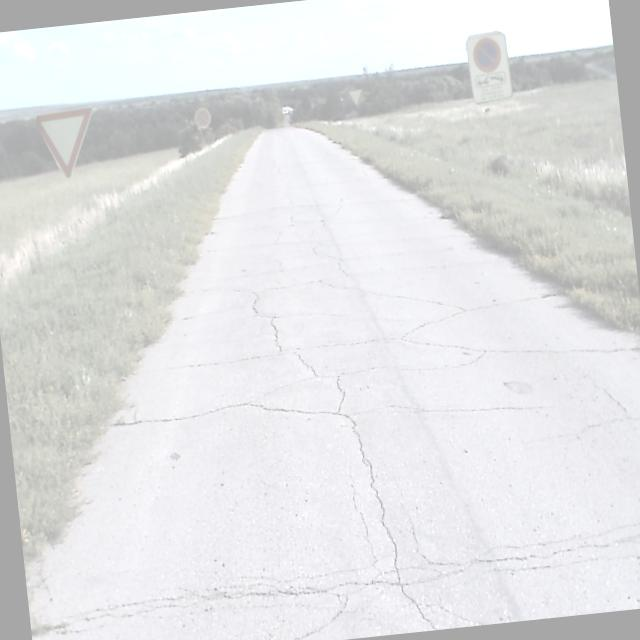road: (27, 125, 640, 640)
